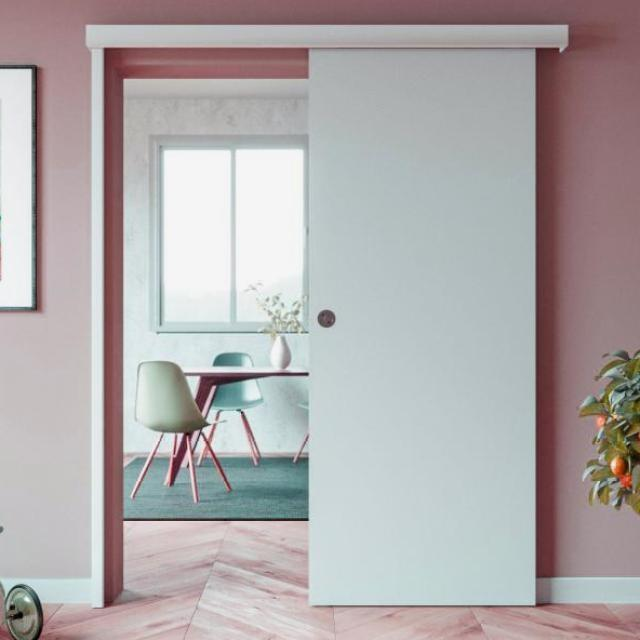door: (306, 45, 540, 607)
